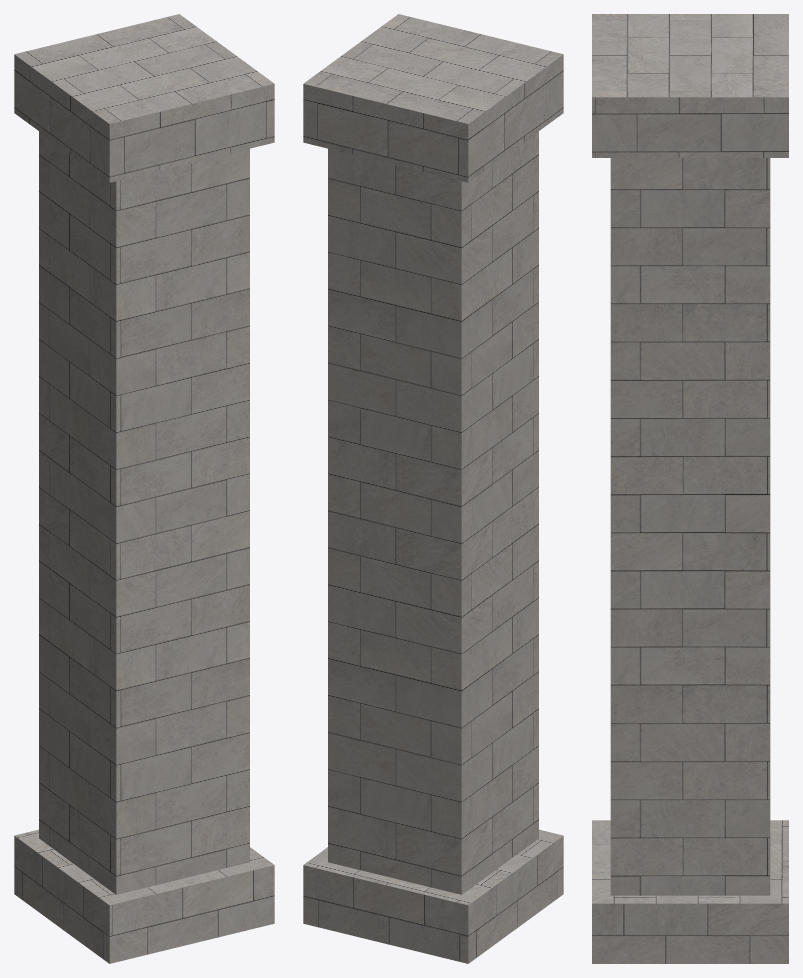
Rendered from pillar.glb.
3 renders of one model, left to right at view 1: azimuth 30°, elevation 25°; view 2: azimuth 150°, elevation 25°; view 3: azimuth 270°, elevation 25°, orthographic. The views are drawn at different scales.
Visible parts, largest first — view 1: Cube; view 2: Cube; view 3: Cube.
Boxes of the visible parts, left/top/right/bottom form: Cube: left=14, top=14, right=274, bottom=963; Cube: left=303, top=14, right=563, bottom=963; Cube: left=592, top=14, right=788, bottom=963.
Bounding box in the file's own units: 0.8232 × 4 × 0.8232.
Materials: 1 (1 with a texture image).
